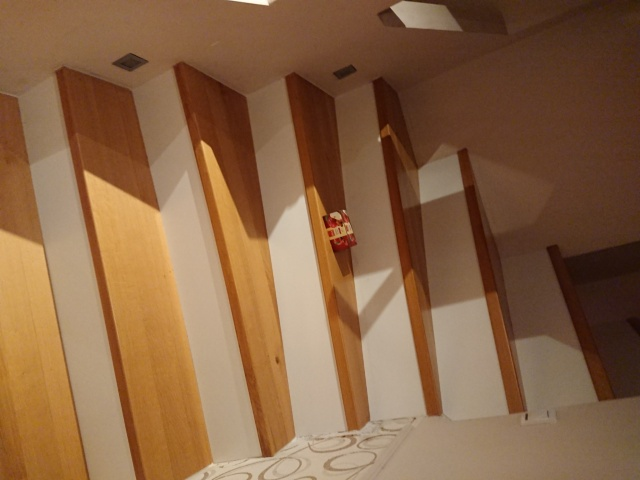Franck Apple Cinnamon Tea 60g: (319, 206, 359, 255)
